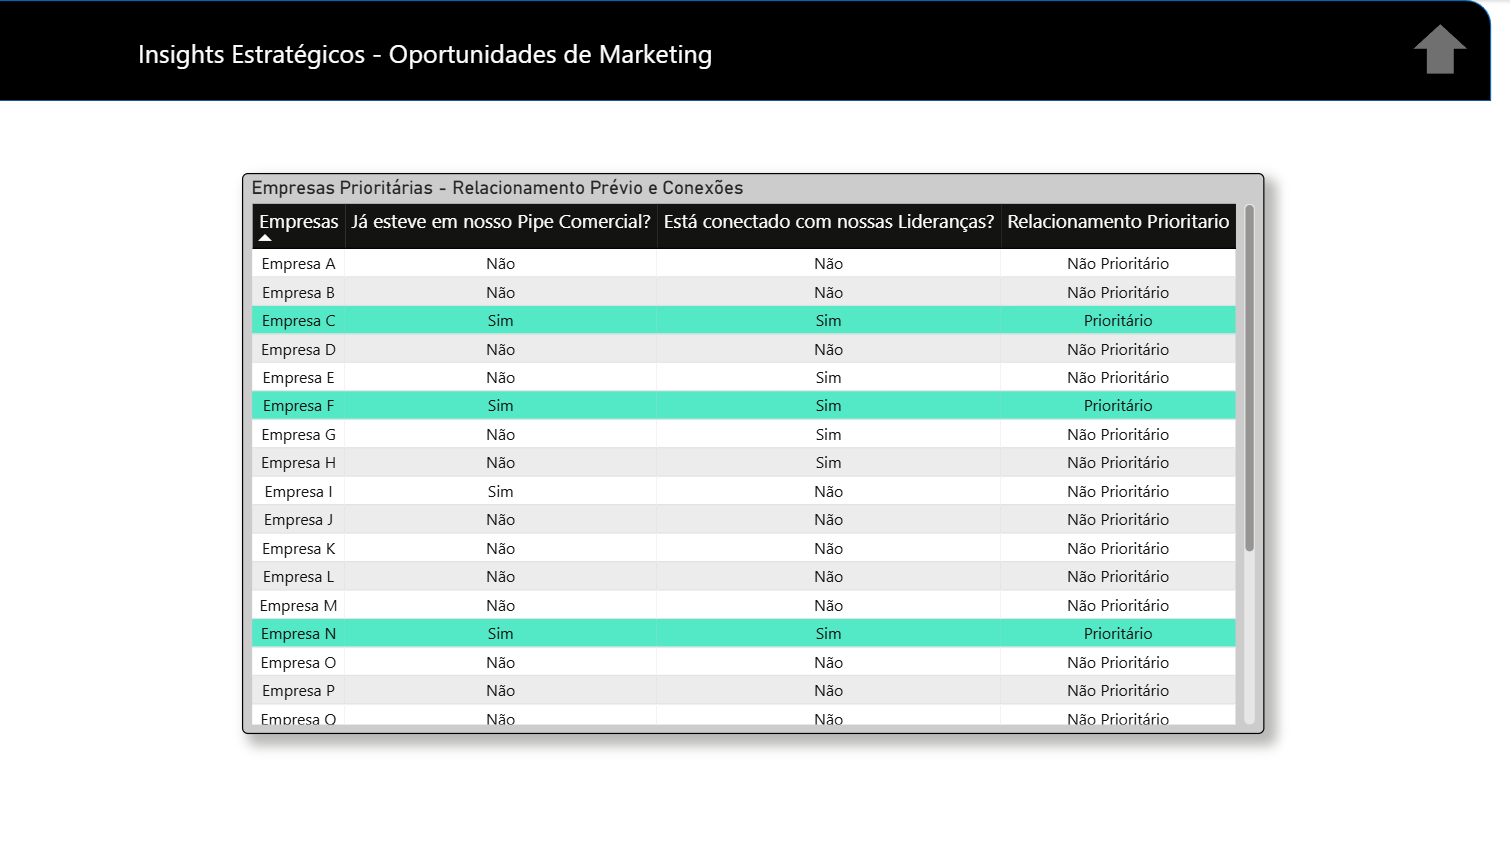

The dashboard page shown, as its layout file describes it:
{"tool":"powerbi","page":{"name":"Relacionamento Prévio e Conexões","canvas":[1280,720],"ordinal":1},"visuals":[{"type":"shape","box":[0,0,1258.9,85.4],"z":0},{"type":"textbox","box":[113,25,500.1,69.8],"z":1000},{"type":"image","box":[6,4.3,91.4,77.6],"z":2000},{"type":"tableEx","title":"Empresas Prioritárias - Relacionamento Prévio e Conexões","fields":{"Values":["base_dados.Empresas","base_dados.Já esteve em nosso Pipe Comercial?","base_dados.Está conectado com nossas Lideranças?","base_dados.RelacionamentoPrioritario"]},"box":[206,146,862,473],"z":3000},{"type":"shape","box":[1193,20,46,42],"z":4001}]}

Visuals, with their boxes in screenshot pixels (x1, y1, x2, y2), scaled from the page's 1280x720 canvas onto the 1510x847 screenshot:
shape: pyautogui.locateOnScreen(0, 0, 1485, 100)
textbox: pyautogui.locateOnScreen(133, 29, 723, 112)
image: pyautogui.locateOnScreen(7, 5, 115, 96)
"Empresas Prioritárias - Relacionamento Prévio e Conexões" tableEx: pyautogui.locateOnScreen(243, 172, 1260, 728)
shape: pyautogui.locateOnScreen(1407, 24, 1462, 73)
